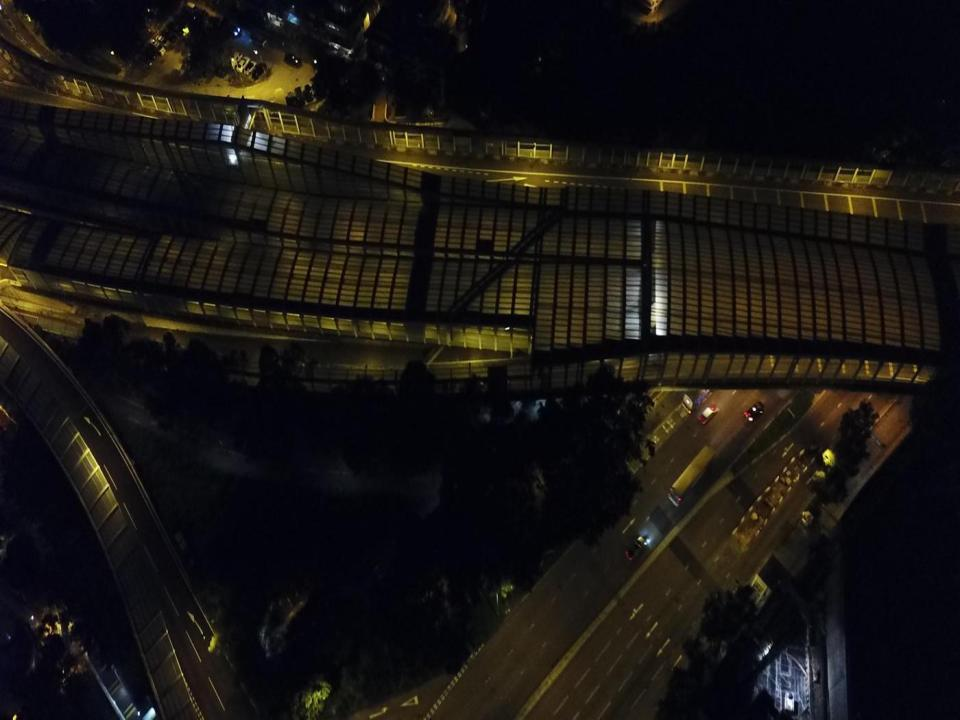bus: (667, 443, 715, 507), (681, 376, 721, 414)
car: (625, 535, 647, 561), (698, 401, 720, 425), (220, 16, 242, 36), (745, 400, 765, 421), (148, 38, 166, 56), (284, 51, 302, 68), (252, 61, 266, 80), (229, 50, 243, 69), (236, 56, 251, 73), (161, 28, 178, 43), (168, 20, 184, 35), (142, 48, 157, 63), (138, 53, 153, 68), (294, 86, 305, 105), (155, 35, 171, 48), (244, 60, 257, 75), (304, 83, 314, 102), (287, 90, 297, 107)
van: (250, 30, 268, 49)
